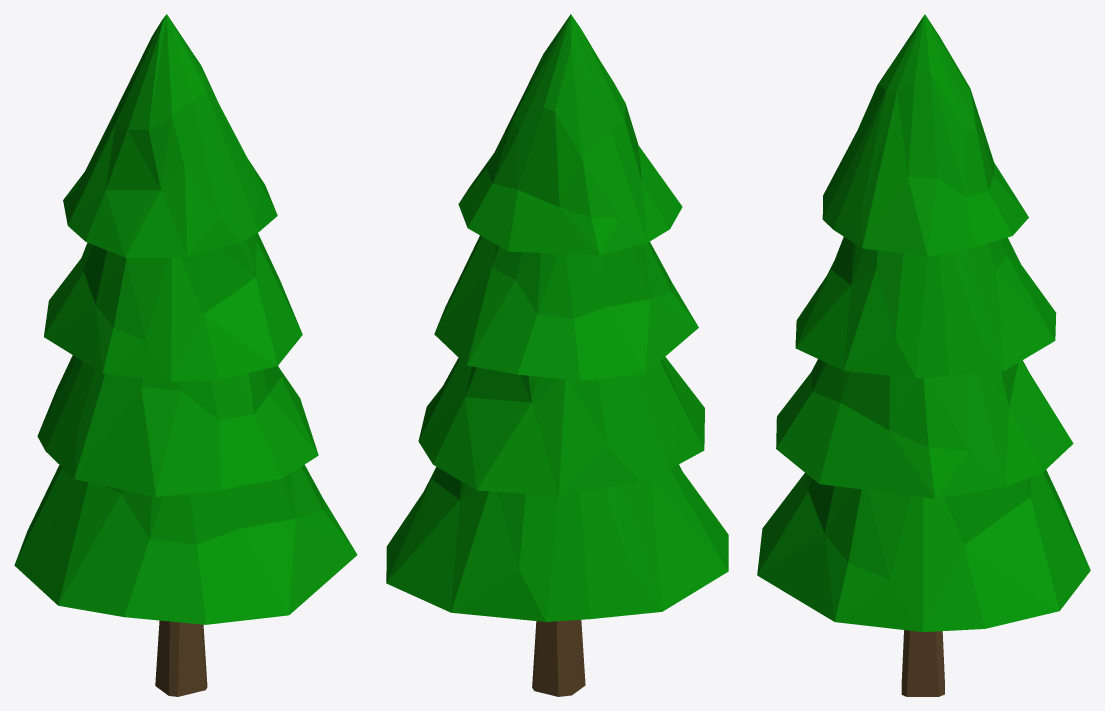
The model's file is TreePine.fbx.
3 views of the same model, side by side, from view 1: azimuth 30°, elevation 25°; view 2: azimuth 150°, elevation 25°; view 3: azimuth 270°, elevation 25° (orthographic).
Visible parts, largest first — view 1: PineTree; view 2: PineTree; view 3: PineTree.
Boxes of the visible parts, box(x1,y1,x2,y2) form: PineTree: box(14, 14, 357, 696); PineTree: box(386, 14, 728, 696); PineTree: box(757, 14, 1090, 696).
Size of the model in its own units: 279 by 609 by 276.
